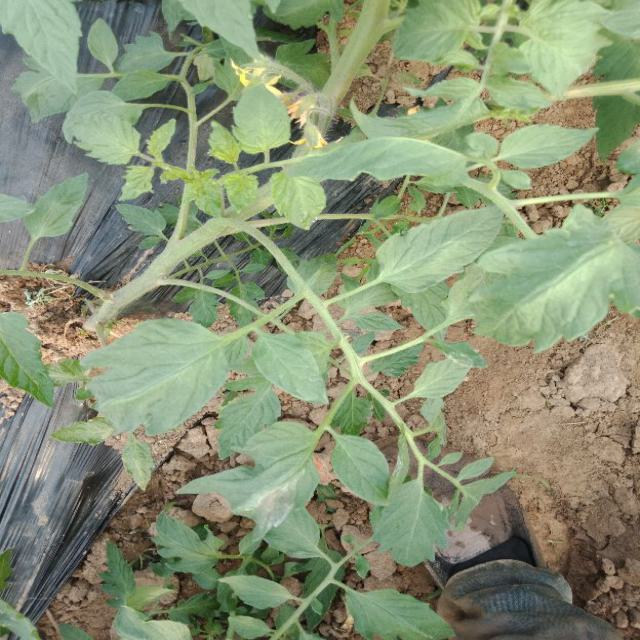Late_blight: (238, 470, 301, 540)
